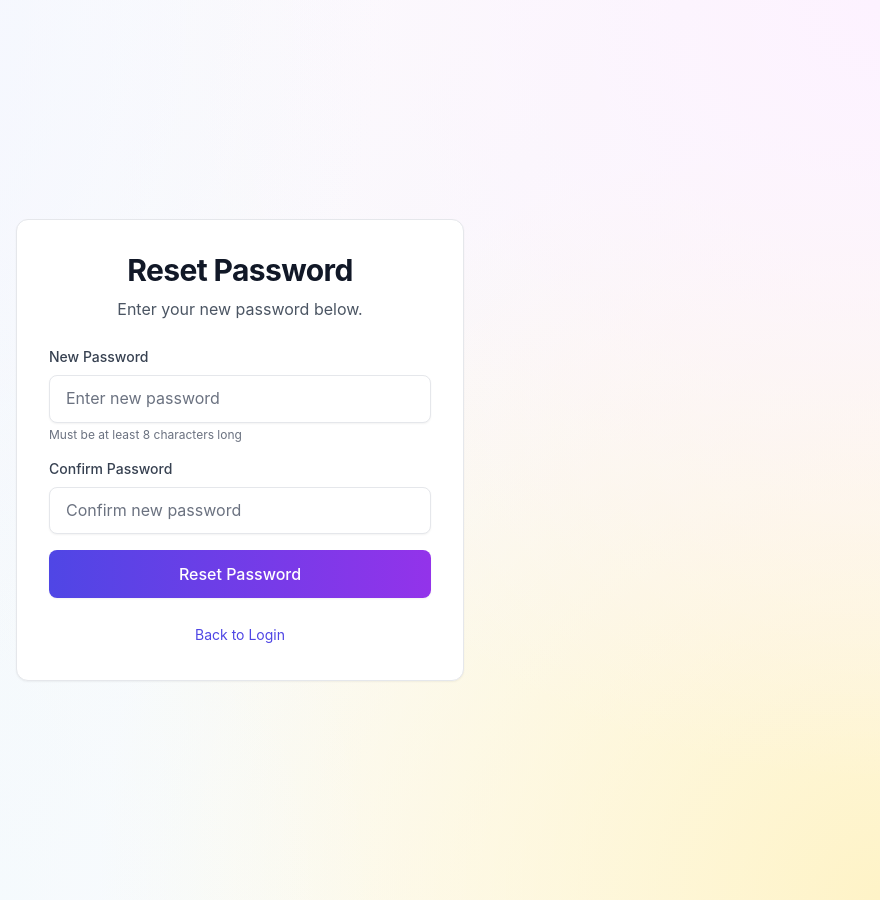
Test: Reset Password Page › should show success screen after successful reset
The width and height of the screenshot is (880, 900).
Step 1. Type "NewPassword123!" into the password field with placeholder "Enter new password" → [240, 399], box [49,375,431,423]
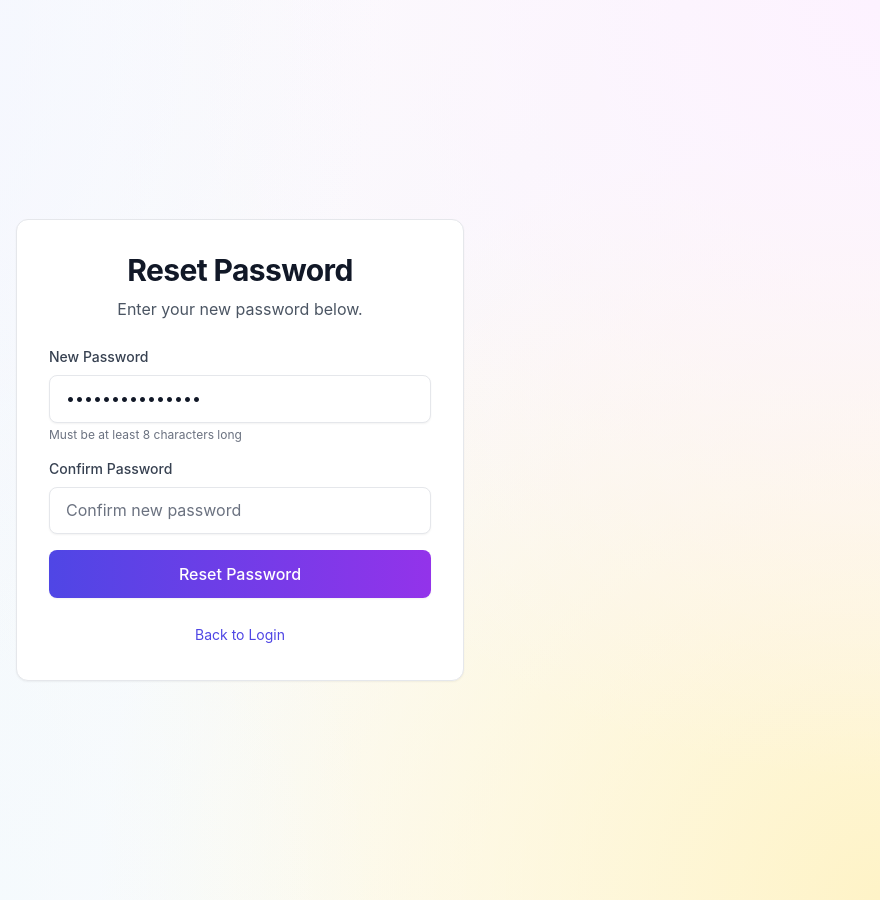
Step 2. Type "NewPassword123!" into the password field with placeholder "Confirm new password" → [240, 511], box [49,487,431,534]
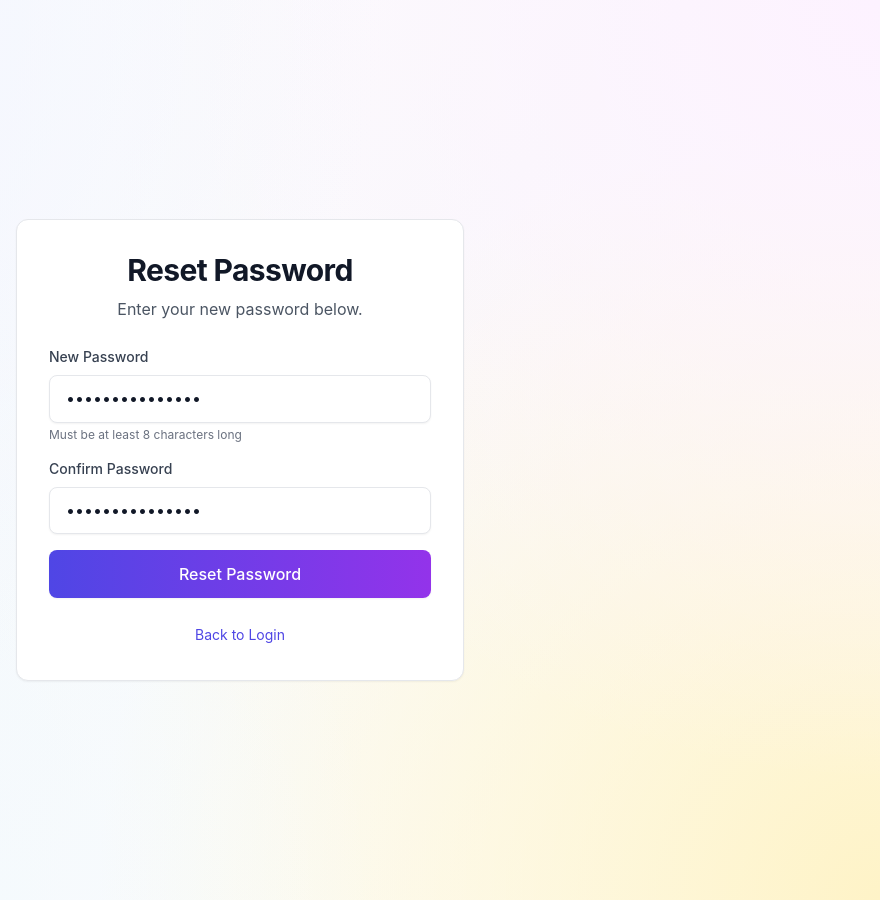
Step 3. Click the button "Reset Password" → [240, 574], box [49,550,431,598]
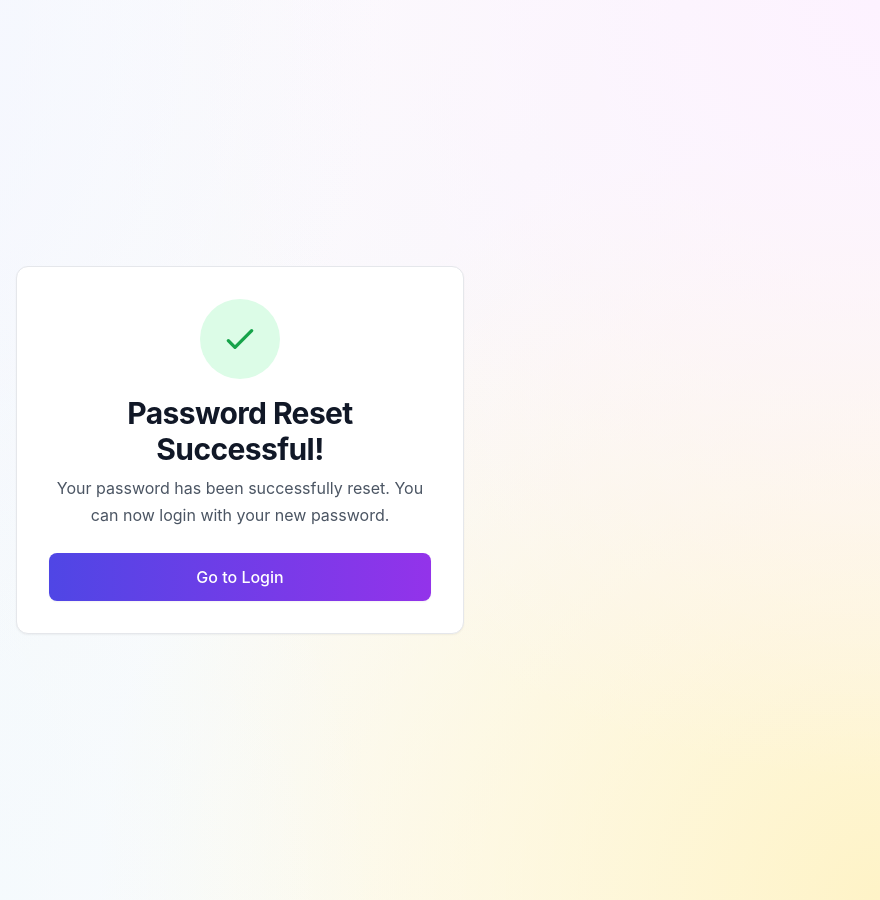
Now the heading "Password Reset Successful!" is shown, box [127,395,353,467]
